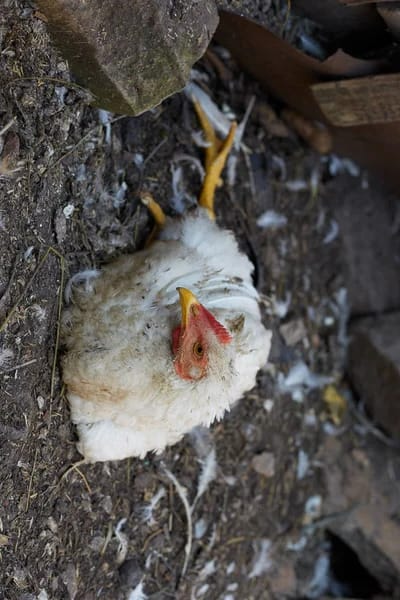Unhealthy: (45, 103, 282, 470)
